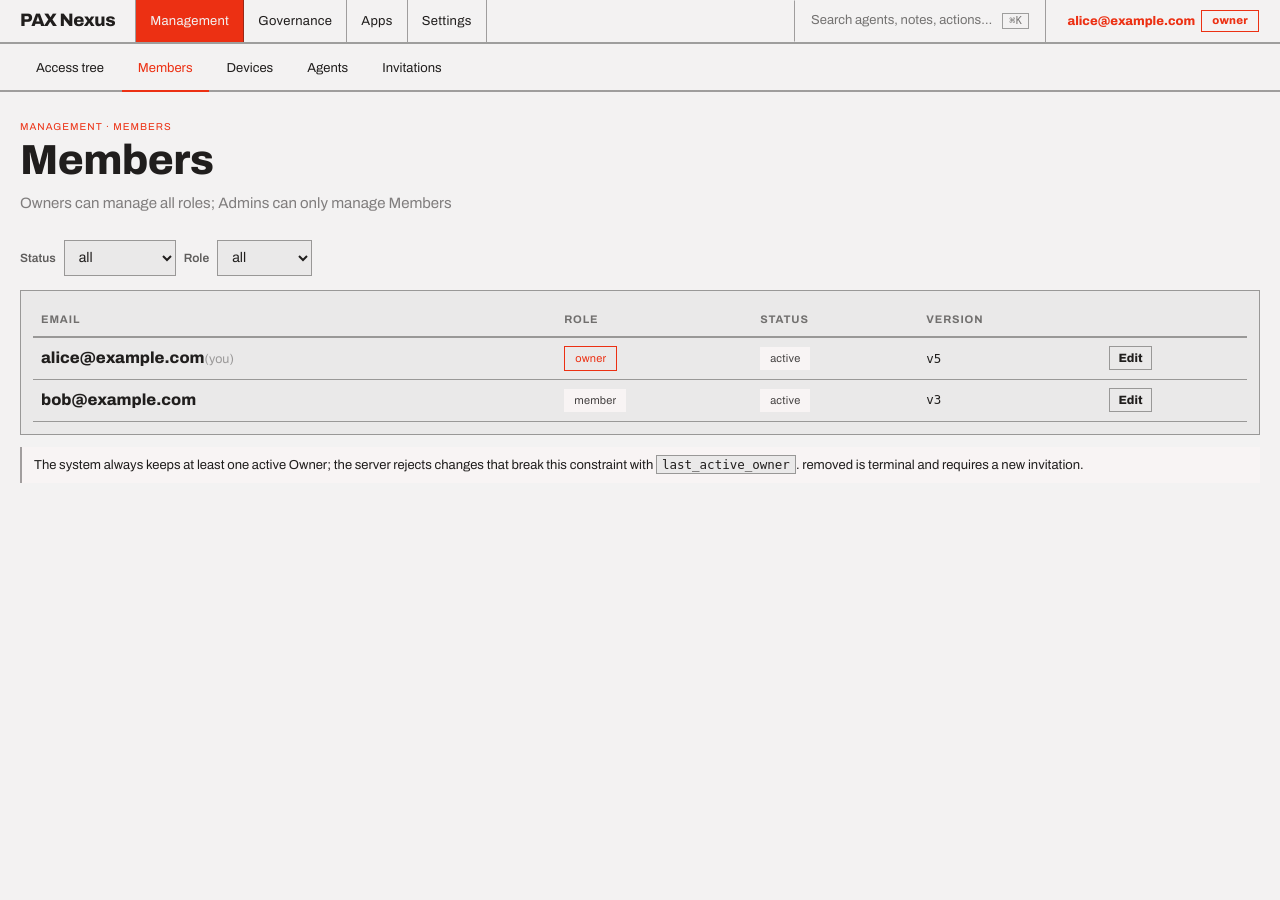
Test: section 10 item 7: concurrent member edits › other 409 codes never refetch the member
Click the button "Edit" in the row of "bob@example.com" at x=1131, y=400, box [1110, 388, 1152, 412]
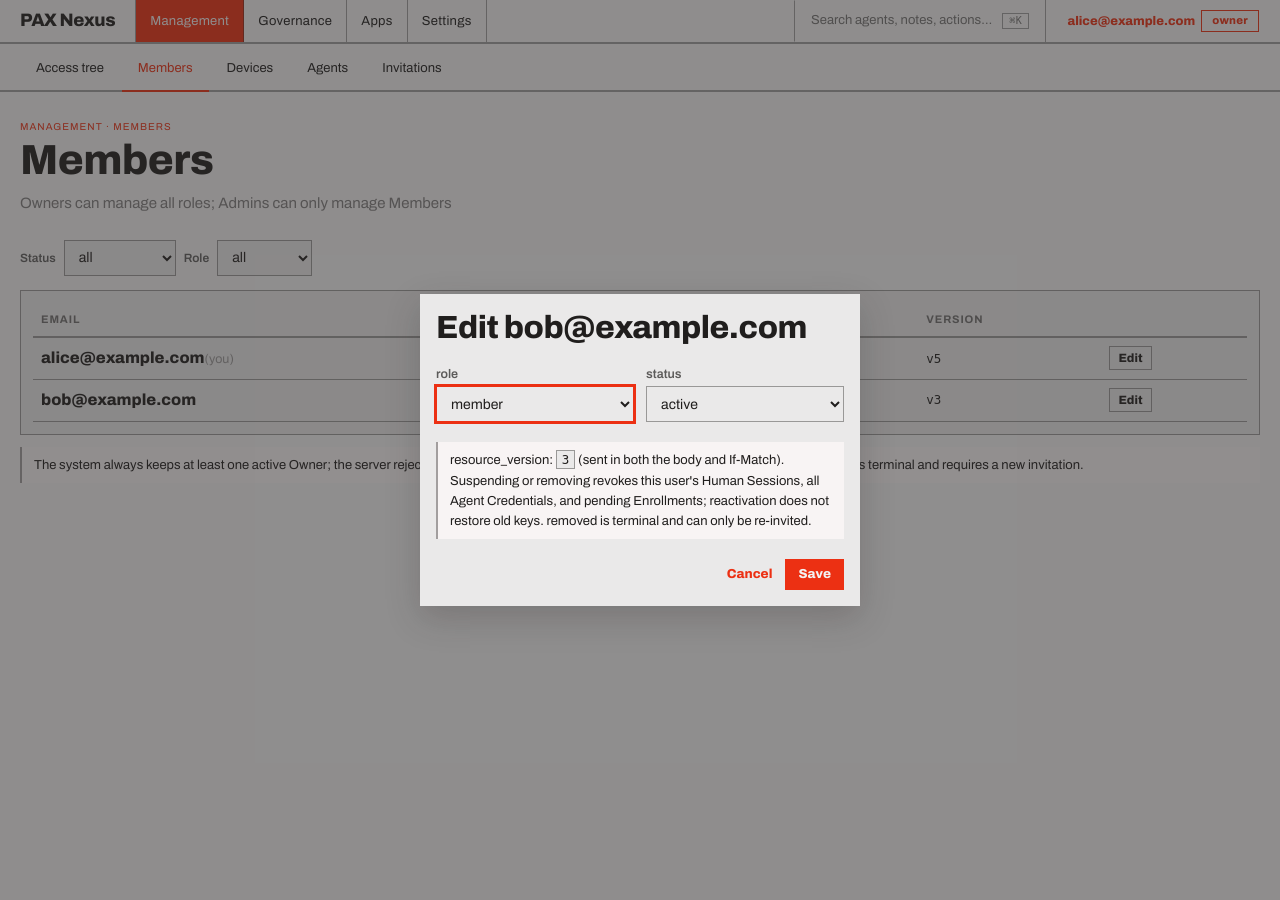
Check: the heading "Edit bob@example.com" is shown, box [436, 310, 844, 346]
Click the button "Save" at x=815, y=575, box [785, 559, 844, 590]
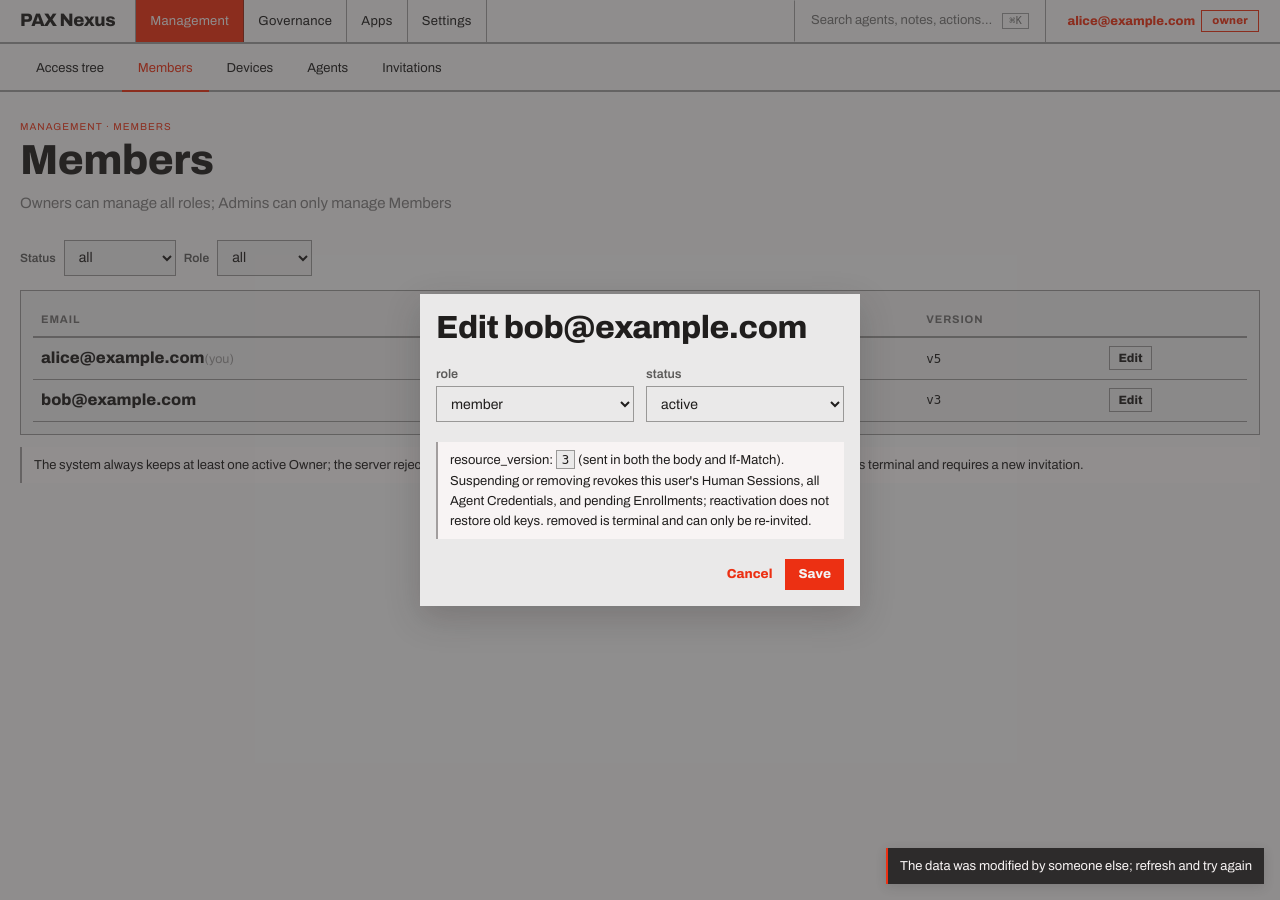
Check: the text "The data was modified by someone else; refresh and try again" is shown, box [886, 848, 1264, 884]
